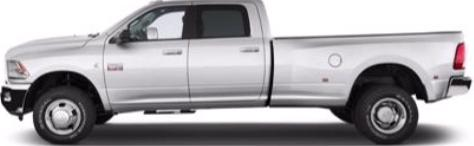backlight: (447, 32, 473, 72)
headlight: (3, 47, 36, 84)
side_glass: (106, 2, 260, 45)
